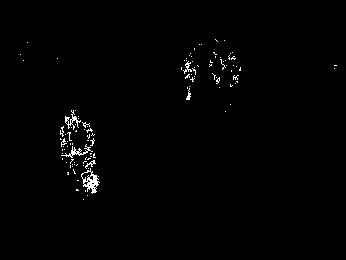person: (57, 109, 102, 197)
